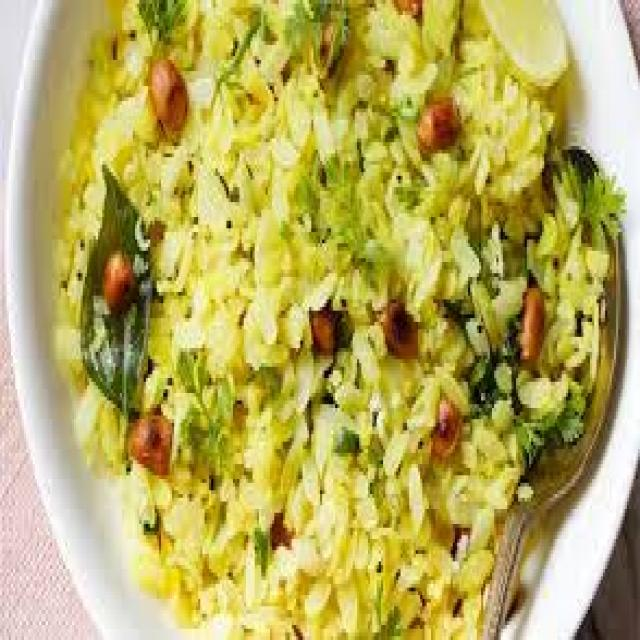POHA: (46, 6, 632, 636)
